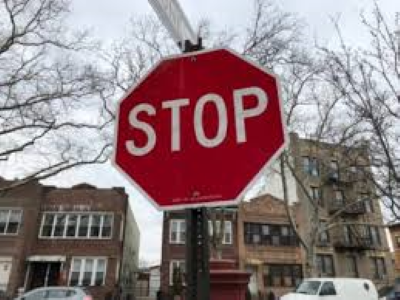stop: (116, 59, 282, 199)
